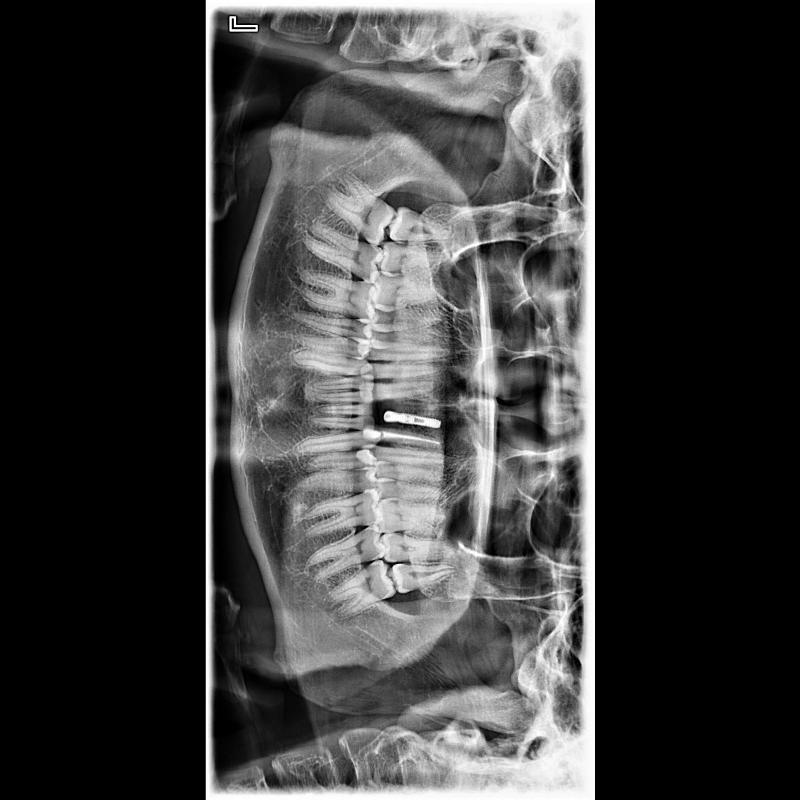osstem: (397, 401, 441, 434)
